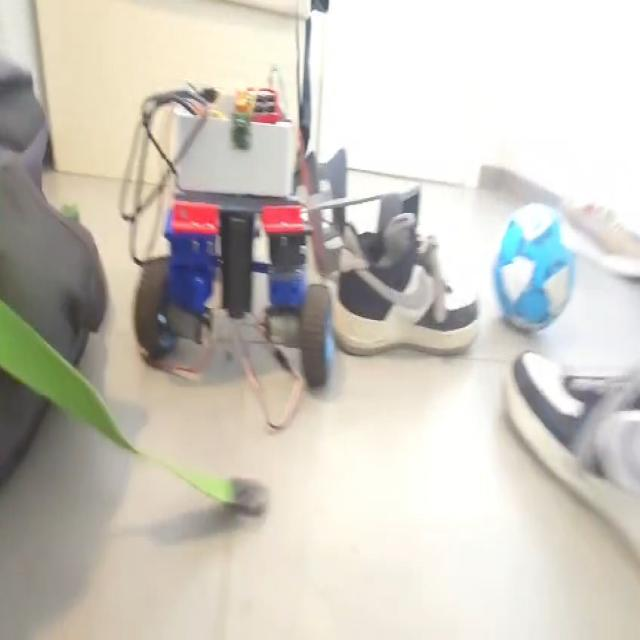Robot: (136, 83, 334, 389)
